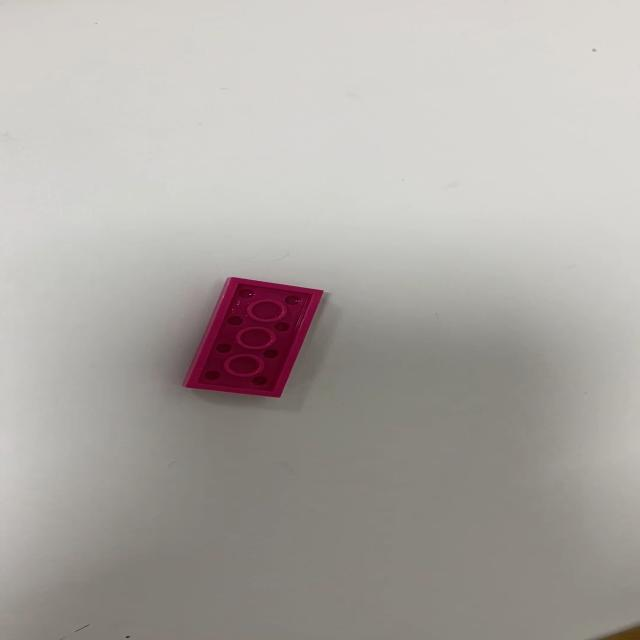C4x2x0: (181, 276, 326, 398)
